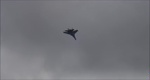maybay_muctieu: (63, 26, 79, 42)
